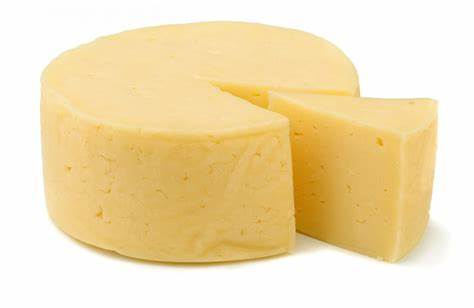Cheese: (38, 20, 363, 267), (263, 85, 441, 266)
